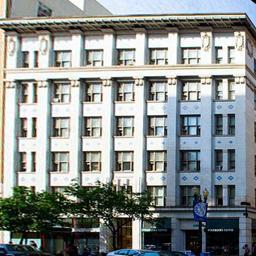building: (5, 12, 246, 254)
